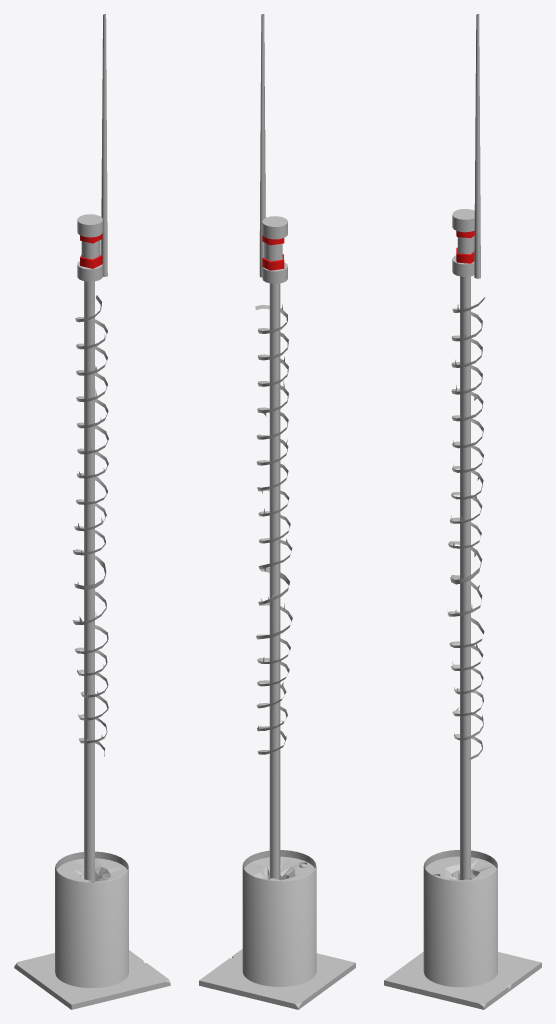
File: Radio Beacon.FBX
3 renders of one model, left to right at view 1: azimuth 30°, elevation 25°; view 2: azimuth 150°, elevation 25°; view 3: azimuth 330°, elevation 25°, orthographic.
Visible parts, largest first — view 1: Radio Beacon_LOD0; view 2: Radio Beacon_LOD0, Beacon Red Light_LOD0; view 3: Radio Beacon_LOD0.
Part boxes in pixels (left/top/right/bottom): Radio Beacon_LOD0: left=14, top=14, right=170, bottom=1009; Radio Beacon_LOD0: left=199, top=14, right=355, bottom=1009; Beacon Red Light_LOD0: left=262, top=235, right=284, bottom=270; Radio Beacon_LOD0: left=384, top=14, right=541, bottom=1009.
Size of what is drawn, in the model's own units: 39.37 by 363 by 39.37.
